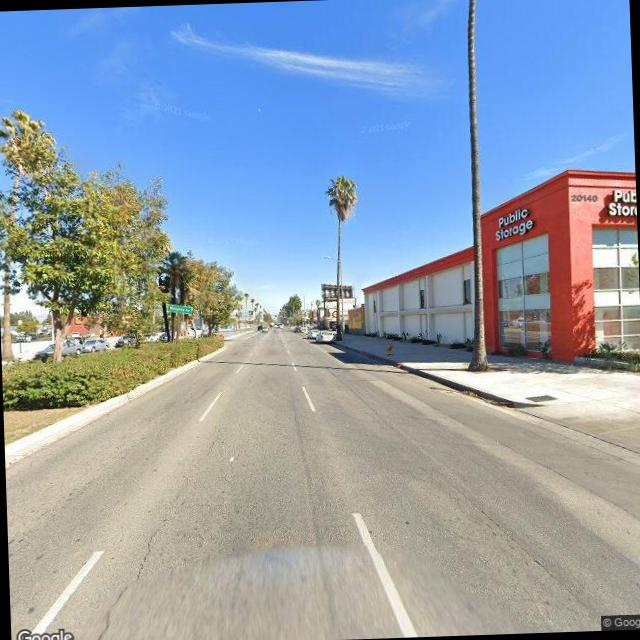pothole: (87, 512, 168, 640), (192, 424, 222, 466)
